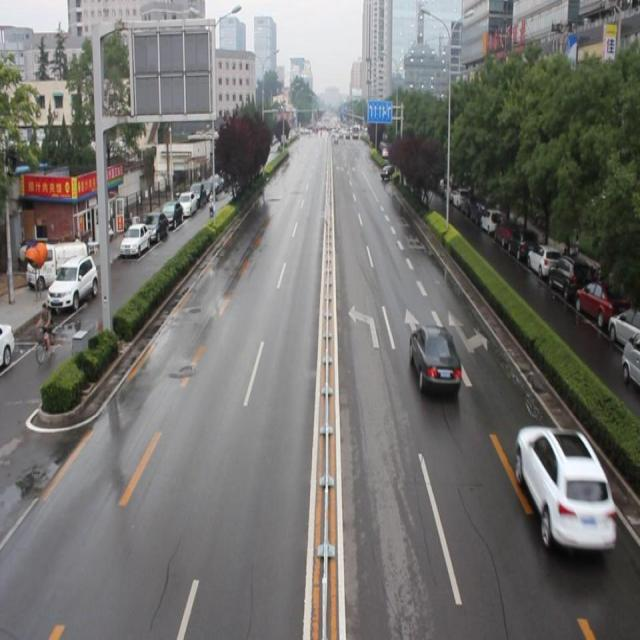car: (513, 421, 617, 558), (408, 325, 462, 396), (379, 164, 394, 180)
